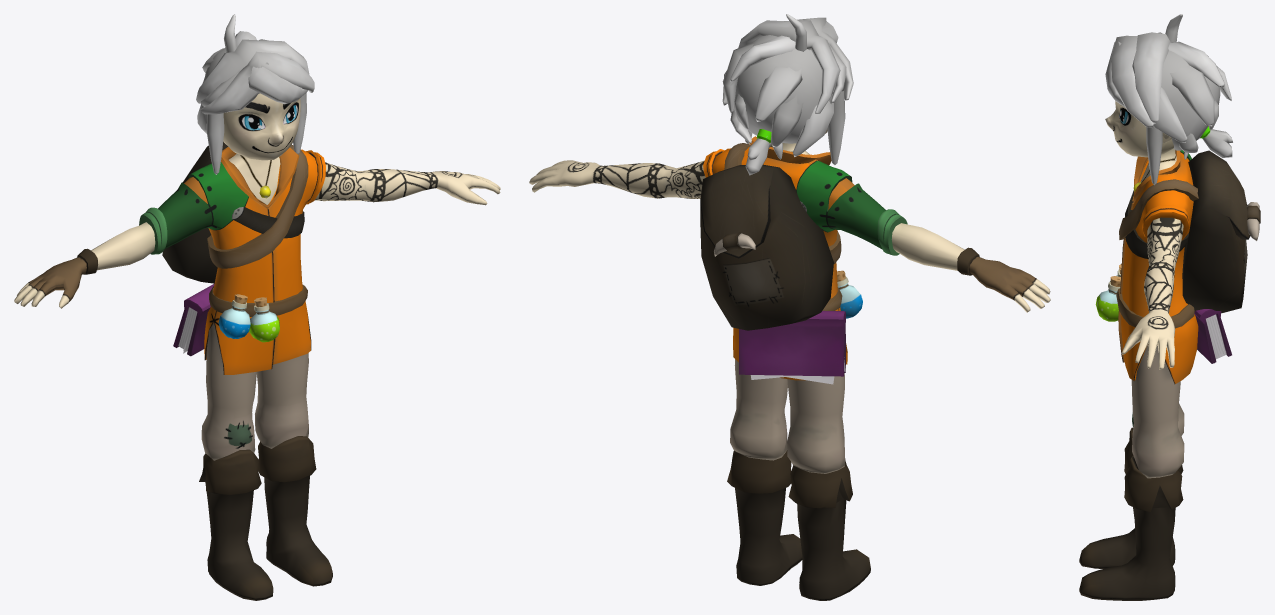
The model's file is Vince.fbx.
3 views of the same model, side by side, from view 1: azimuth 30°, elevation 25°; view 2: azimuth 150°, elevation 25°; view 3: azimuth 270°, elevation 25° (orthographic). The views are drawn at different scales.
Visible parts, largest first — view 1: GEO_body; view 2: GEO_body; view 3: GEO_body.
Part boxes in pixels (x1,y1,x2,y2): GEO_body: (14, 14, 500, 600); GEO_body: (529, 14, 1050, 600); GEO_body: (1079, 14, 1260, 600).
Bounding box in the file's own units: 191 × 206 × 60.9.
